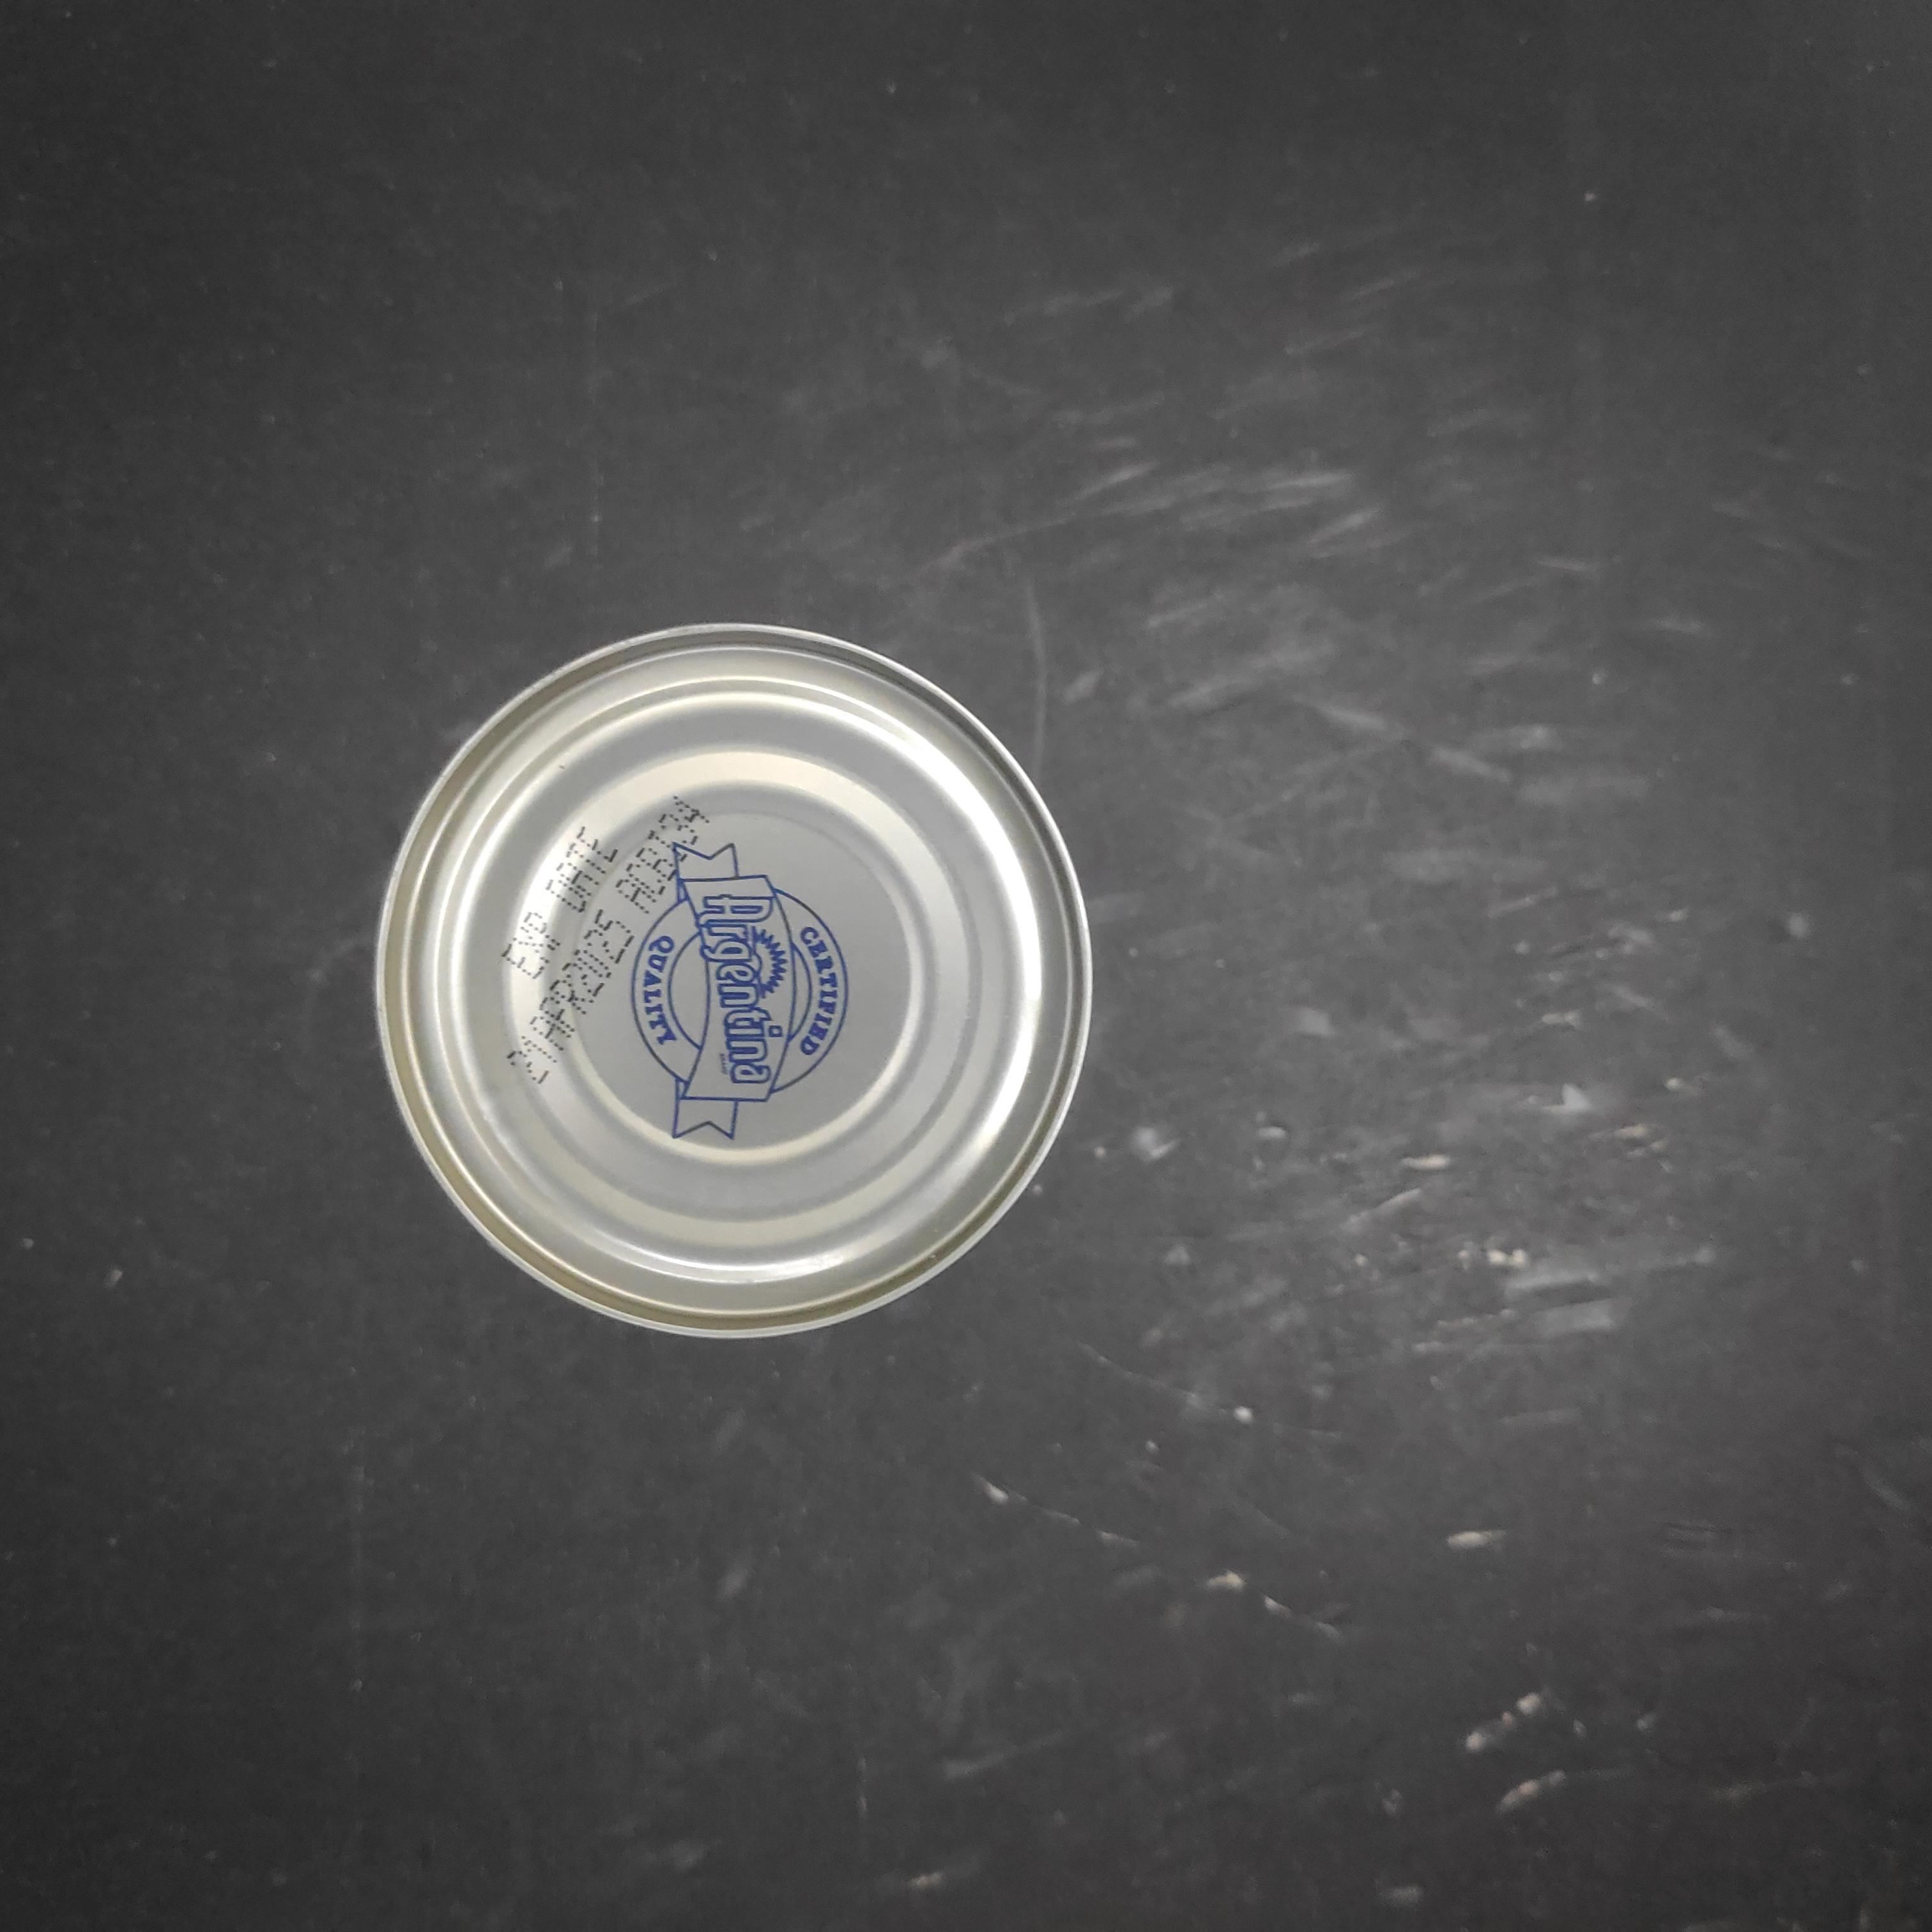No defect: (363, 610, 1106, 1353)
